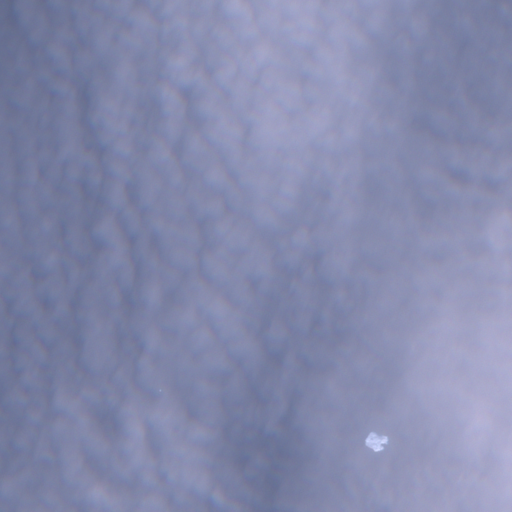Iceberg: (365, 432, 387, 451)
